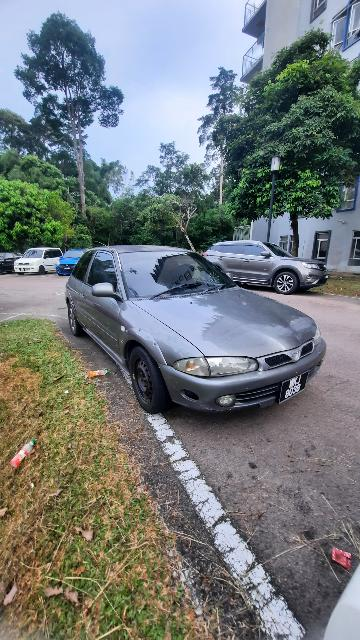License_Plate: (280, 371, 308, 403)
car: (63, 243, 326, 417), (204, 244, 329, 298)
